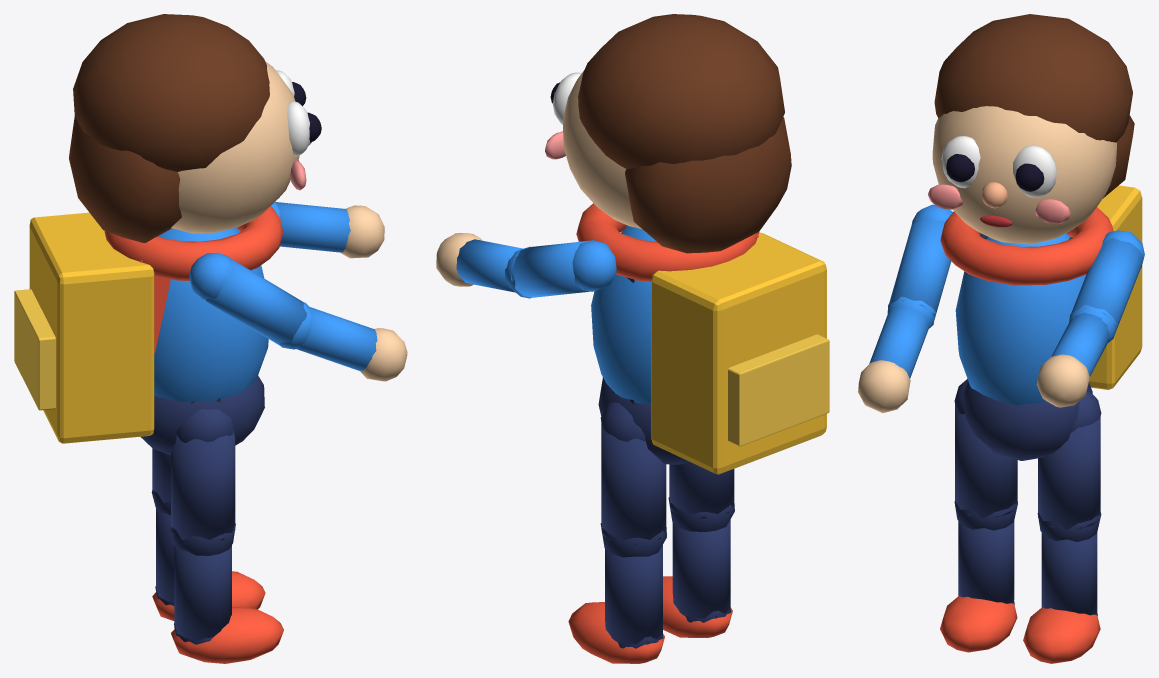
File: hrdina_radost.glb
The picture shows the model from 3 angles, left to right: view 1: azimuth 30°, elevation 25°; view 2: azimuth 150°, elevation 25°; view 3: azimuth 270°, elevation 25°; orthographic projection. The views are drawn at different scales.
Visible parts, largest first — view 1: Sphere.011, Cube.001, Sphere, Sphere.002, Sphere.012, Cylinder.004, Torus, Cylinder.005, Cylinder, Cube.002, Sphere.025, Sphere.001 (+12 smaller); view 2: Cube.001, Sphere.011, Sphere.012, Cube.002, Sphere, Cylinder.006, Cylinder.005, Cylinder.007, Torus, Sphere.002, Cylinder.002, Cylinder.004 (+10 smaller); view 3: Sphere.011, Sphere.002, Sphere, Torus, Sphere.001, Cylinder.006, Cube.001, Cylinder.004, Cylinder.005, Cylinder.007, Cylinder, Cylinder.002 (+20 smaller).
Boxes of the visible parts, x1=… form: Sphere.011: x1=73, y1=14, x2=269, y2=171; Cube.001: x1=29, y1=212, x2=154, y2=443; Sphere: x1=154, y1=227, x2=268, y2=402; Sphere.002: x1=171, y1=61, x2=299, y2=233; Sphere.012: x1=69, y1=116, x2=181, y2=242; Cylinder.004: x1=171, y1=430, x2=235, y2=542; Torus: x1=104, y1=206, x2=283, y2=280; Cylinder.005: x1=174, y1=545, x2=231, y2=640; Cylinder: x1=201, y1=258, x2=307, y2=345; Cube.002: x1=14, y1=289, x2=55, y2=410; Sphere.025: x1=171, y1=607, x2=283, y2=663; Sphere.001: x1=140, y1=375, x2=264, y2=454; Cube.001: x1=651, y1=232, x2=826, y2=474; Sphere.011: x1=578, y1=14, x2=784, y2=168; Sphere.012: x1=625, y1=117, x2=791, y2=253; Cube.002: x1=728, y1=334, x2=829, y2=446; Sphere: x1=591, y1=225, x2=656, y2=404; Cylinder.006: x1=601, y1=423, x2=666, y2=544; Cylinder.005: x1=672, y1=519, x2=730, y2=618; Cylinder.007: x1=605, y1=545, x2=662, y2=644; Torus: x1=576, y1=203, x2=759, y2=281; Sphere.002: x1=563, y1=70, x2=641, y2=228; Cylinder.002: x1=510, y1=240, x2=594, y2=297; Cylinder.004: x1=669, y1=462, x2=734, y2=518; Sphere.011: x1=934, y1=14, x2=1132, y2=142; Sphere.002: x1=932, y1=106, x2=1116, y2=244; Sphere: x1=955, y1=233, x2=1085, y2=405; Torus: x1=940, y1=207, x2=1113, y2=285; Sphere.001: x1=963, y1=381, x2=1092, y2=460; Cylinder.006: x1=1038, y1=417, x2=1100, y2=529; Cube.001: x1=1070, y1=185, x2=1142, y2=389; Cylinder.004: x1=955, y1=405, x2=1017, y2=517; Cylinder.005: x1=958, y1=521, x2=1014, y2=603; Cylinder.007: x1=1041, y1=533, x2=1097, y2=615; Cylinder: x1=889, y1=217, x2=951, y2=318; Cylinder.002: x1=1071, y1=238, x2=1143, y2=333.
Size of the model in its own units: 0.7746 by 1.27 by 0.5435.
